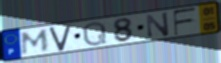8: (112, 17, 135, 43)
F: (172, 6, 198, 37)
M: (20, 28, 50, 56)
N: (144, 11, 171, 39)
Q: (82, 20, 108, 47)
V: (48, 23, 73, 52)
